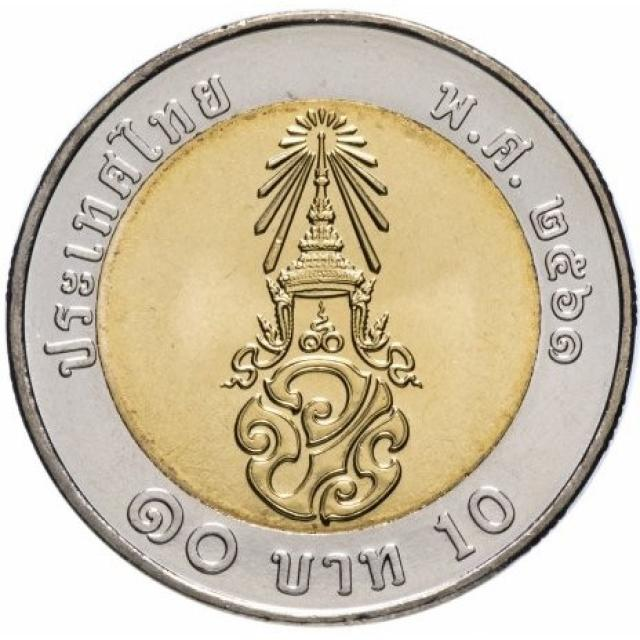10 Bath: (8, 5, 640, 633)
